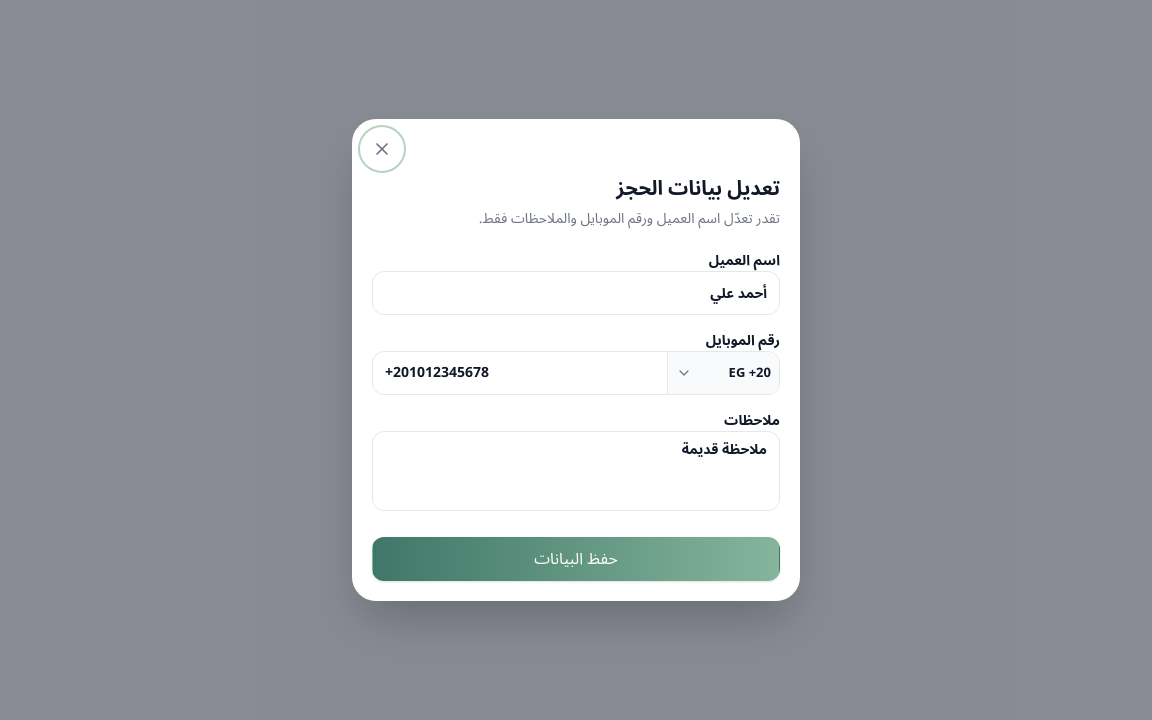
Test: EditBookingDetailsSheet › blocks invalid phone numbers on submit
Step 1. Replace the text in the field named "رقم الموبايل" with "010123" → (520, 373), box x1=373 y1=352 x2=667 y2=394
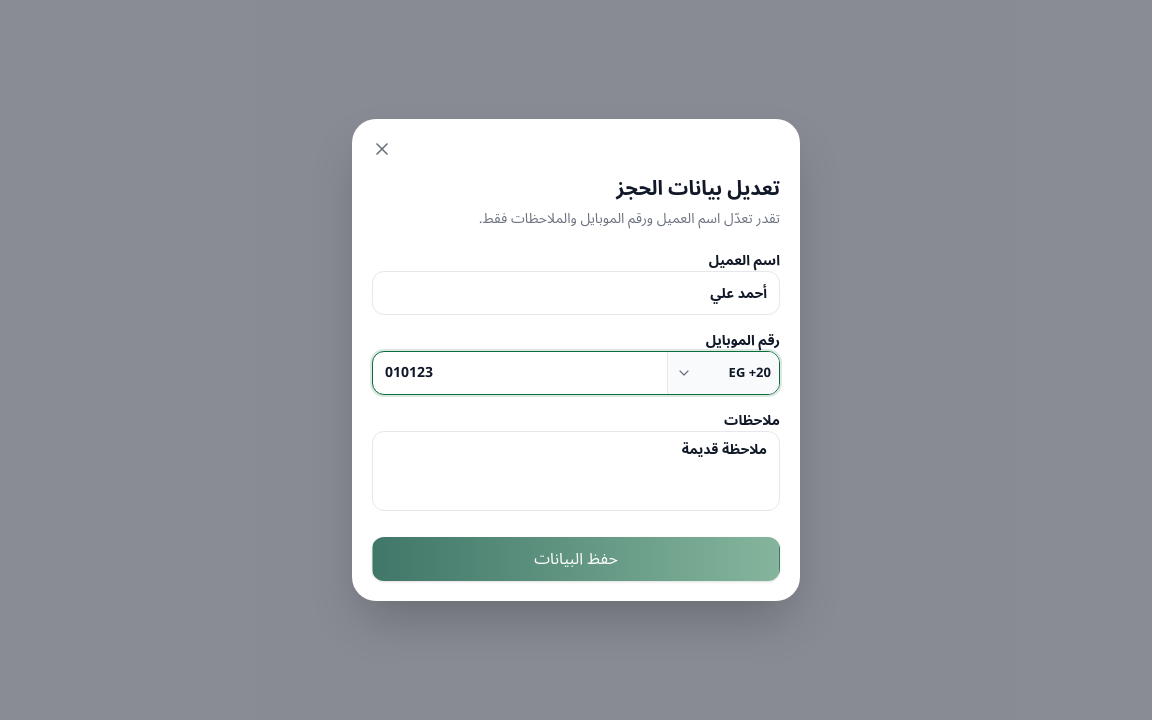
Step 2. Click the button "حفظ البيانات" → (576, 559), box x1=372 y1=537 x2=780 y2=581
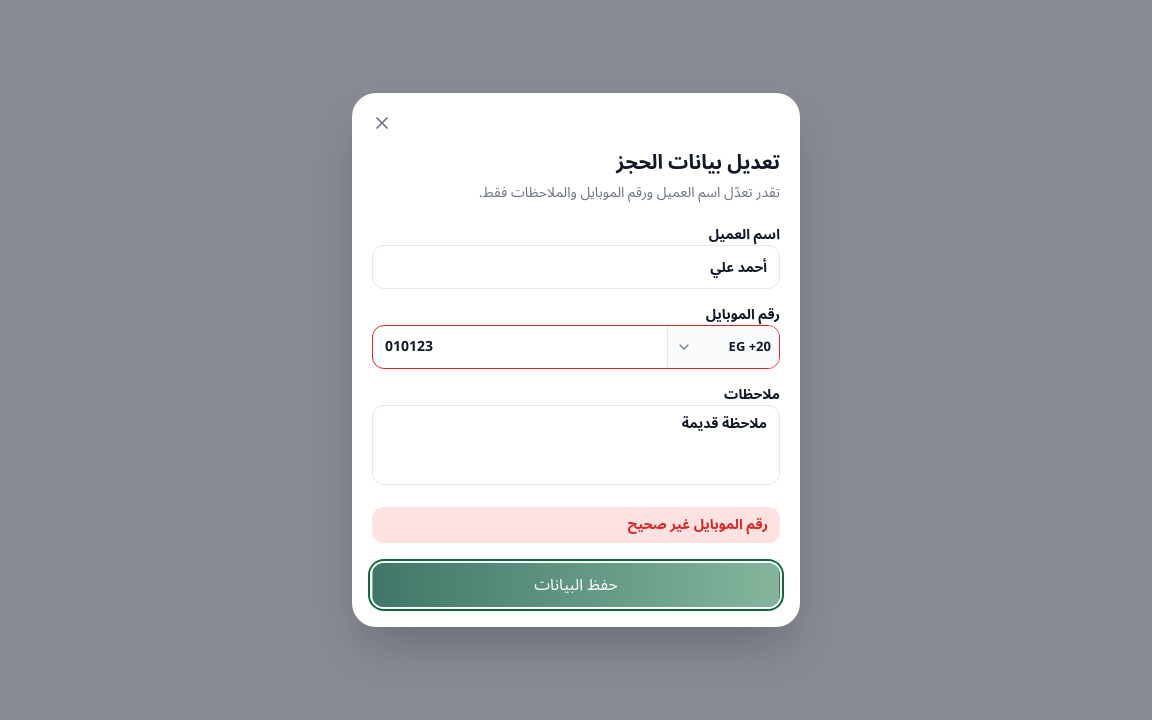
Expected: the text "رقم الموبايل غير صحيح" is shown, x1=372 y1=507 x2=780 y2=543
